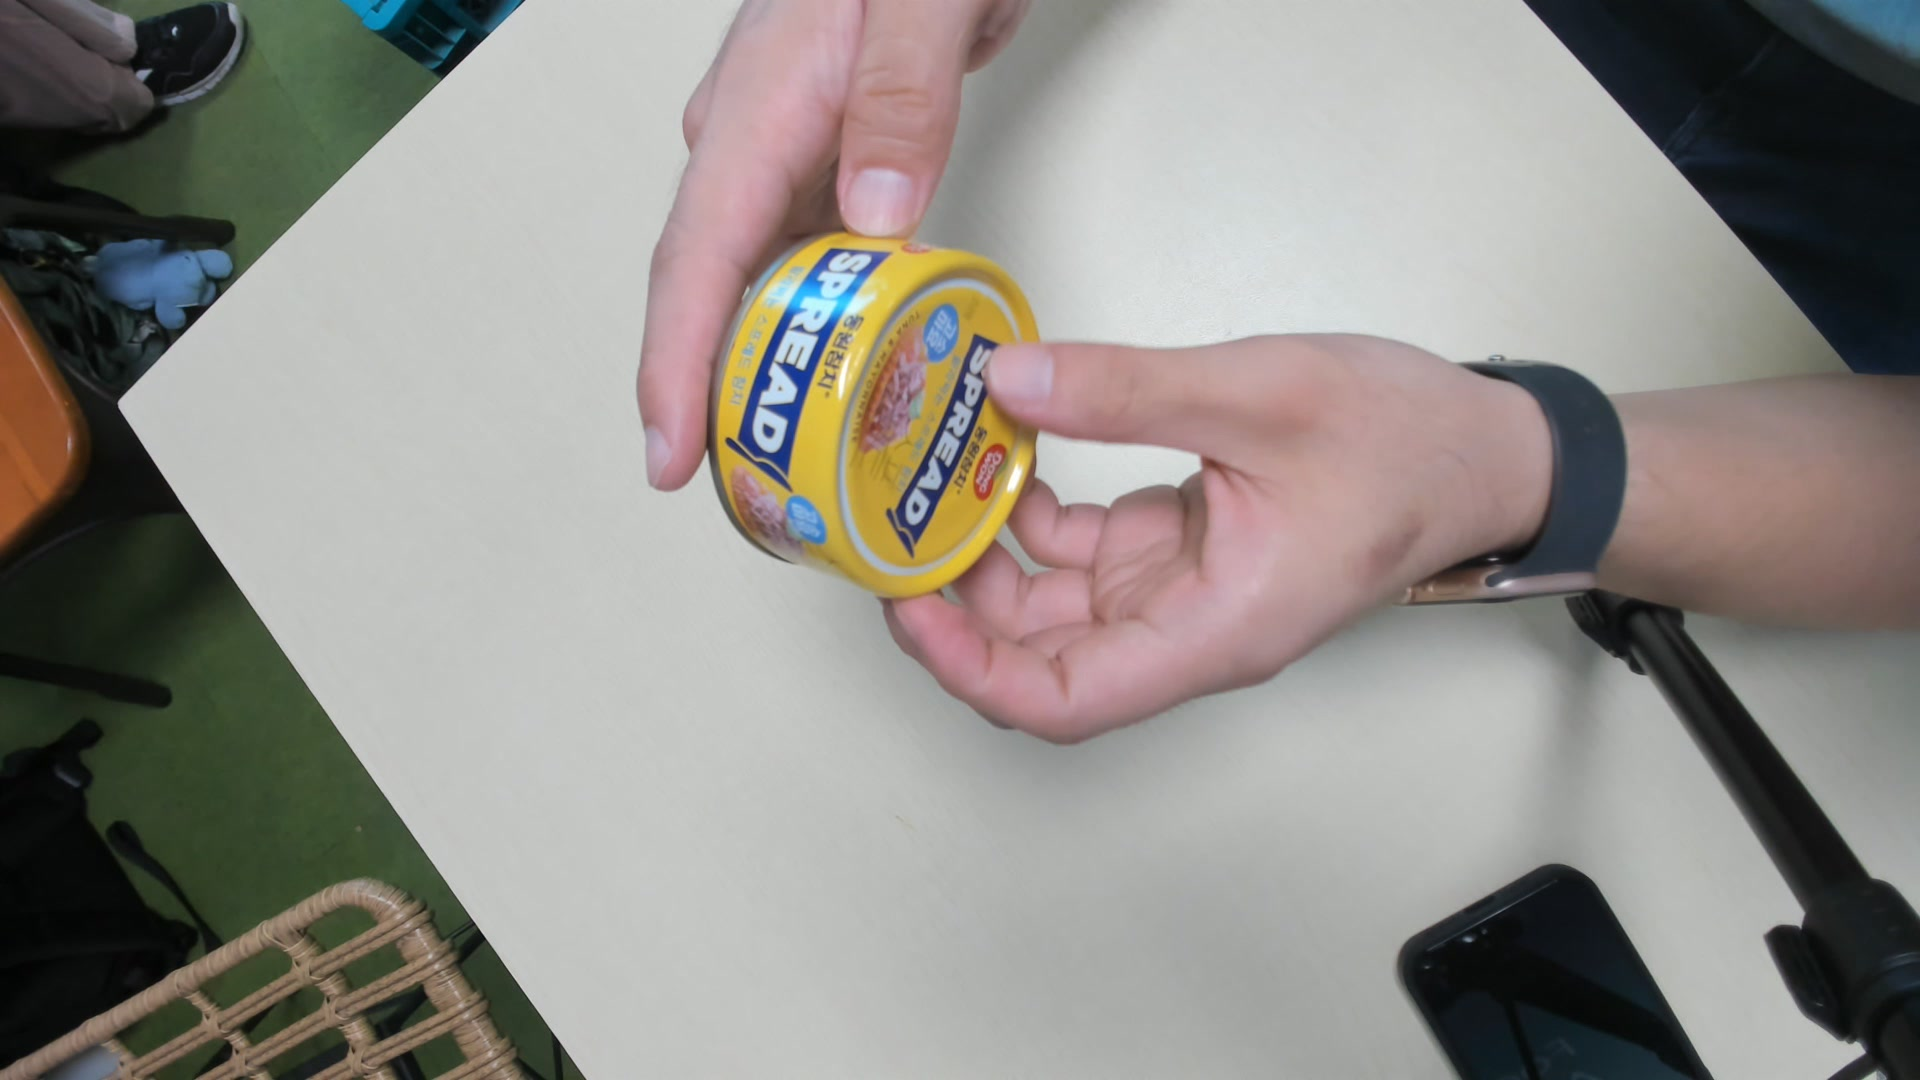OtherSauceDressing_0-99g_NonHalal_NonHealthy: (709, 227, 1042, 601)
